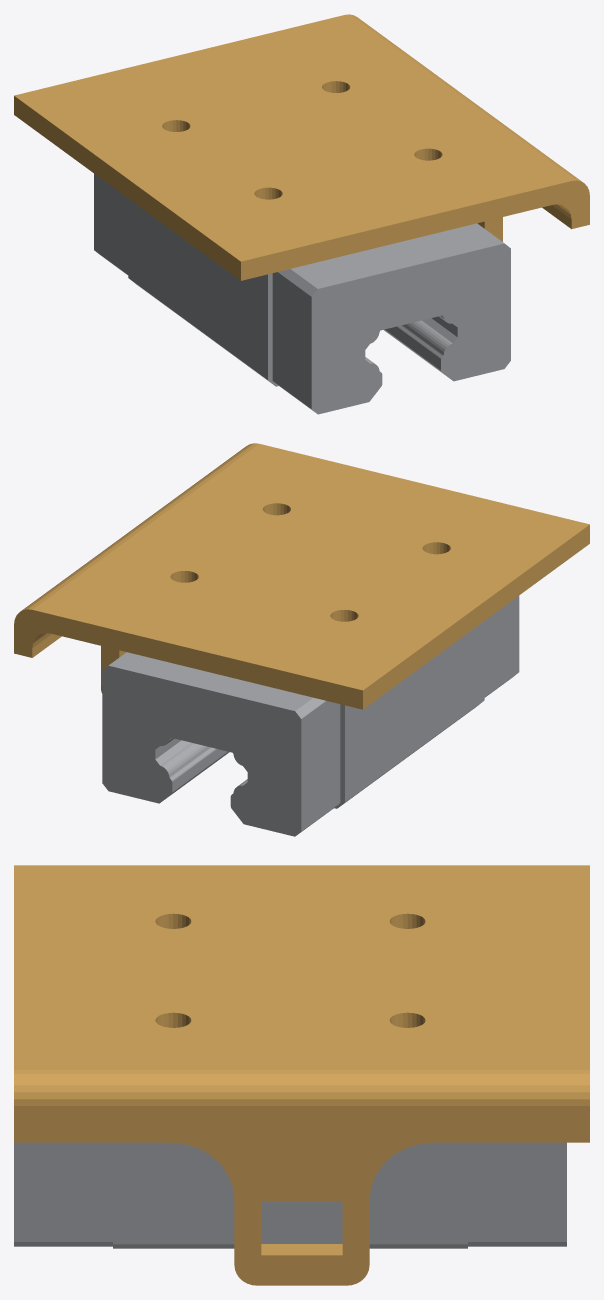
File: z1_mount.glb
3 views of the same model, one above another, from view 1: azimuth 30°, elevation 25°; view 2: azimuth 150°, elevation 25°; view 3: azimuth 270°, elevation 25° (orthographic). The views are drawn at different scales.
Parts seen in each view (by area): view 1: pt_41#2, pt_16#0; view 2: pt_41#2, pt_16#0; view 3: pt_41#2, pt_16#0.
Boxes of the visible parts, bbox=[...] form: pt_41#2: bbox=[14, 14, 589, 280]; pt_16#0: bbox=[94, 173, 510, 414]; pt_41#2: bbox=[14, 443, 589, 709]; pt_16#0: bbox=[102, 596, 519, 836]; pt_41#2: bbox=[14, 865, 589, 1285]; pt_16#0: bbox=[14, 1142, 566, 1248].
Bounding box in the file's own units: 0.0568 × 0.0267 × 0.0639.
